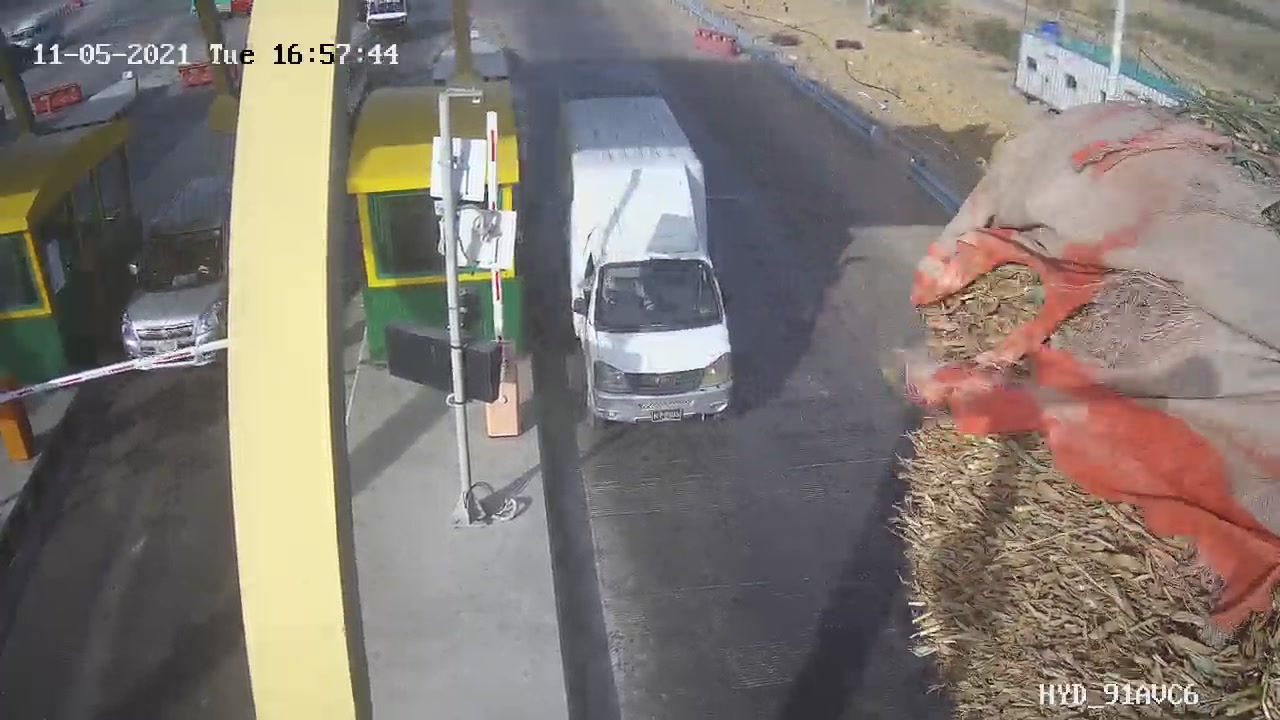F5: (535, 82, 761, 444)
